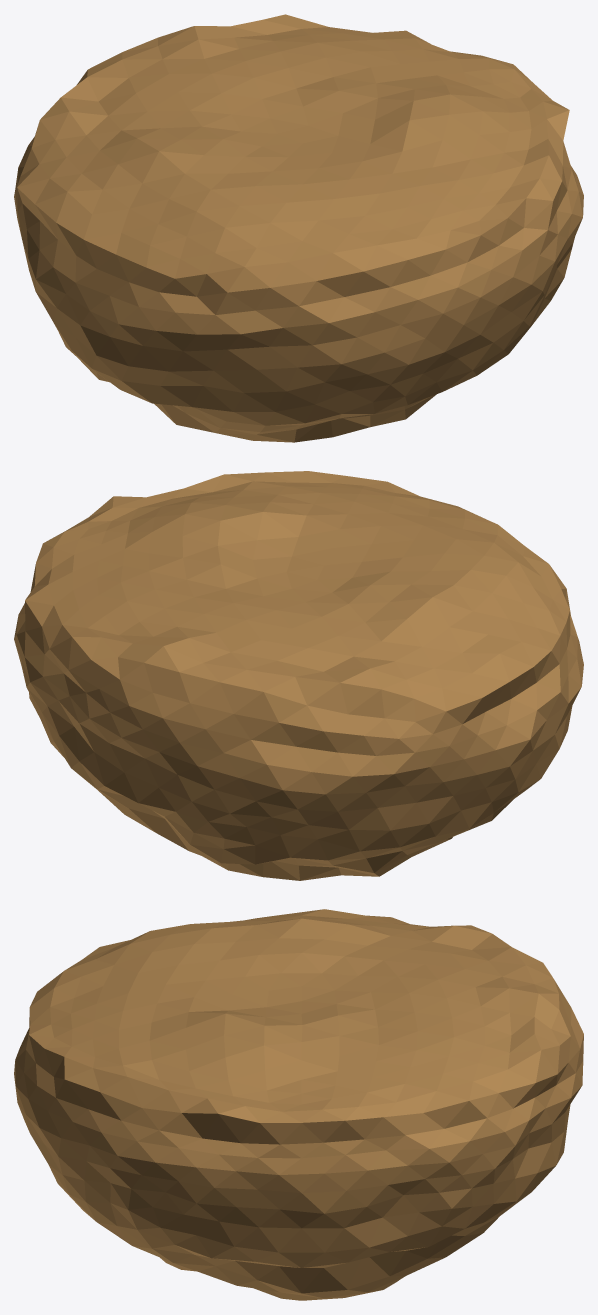
The model's file is island2.fbx.
3 renders of one model, top to bottom at view 1: azimuth 30°, elevation 25°; view 2: azimuth 150°, elevation 25°; view 3: azimuth 270°, elevation 25°, orthographic. The views are drawn at different scales.
Parts seen in each view (by area): view 1: Icosphere.002; view 2: Icosphere.002; view 3: Icosphere.002.
Part boxes in pixels (left/top/right/bottom): Icosphere.002: left=14, top=14, right=583, bottom=442; Icosphere.002: left=14, top=471, right=583, bottom=880; Icosphere.002: left=14, top=909, right=583, bottom=1300.
Size of the model in its own units: 18553 by 10949 by 18783.
